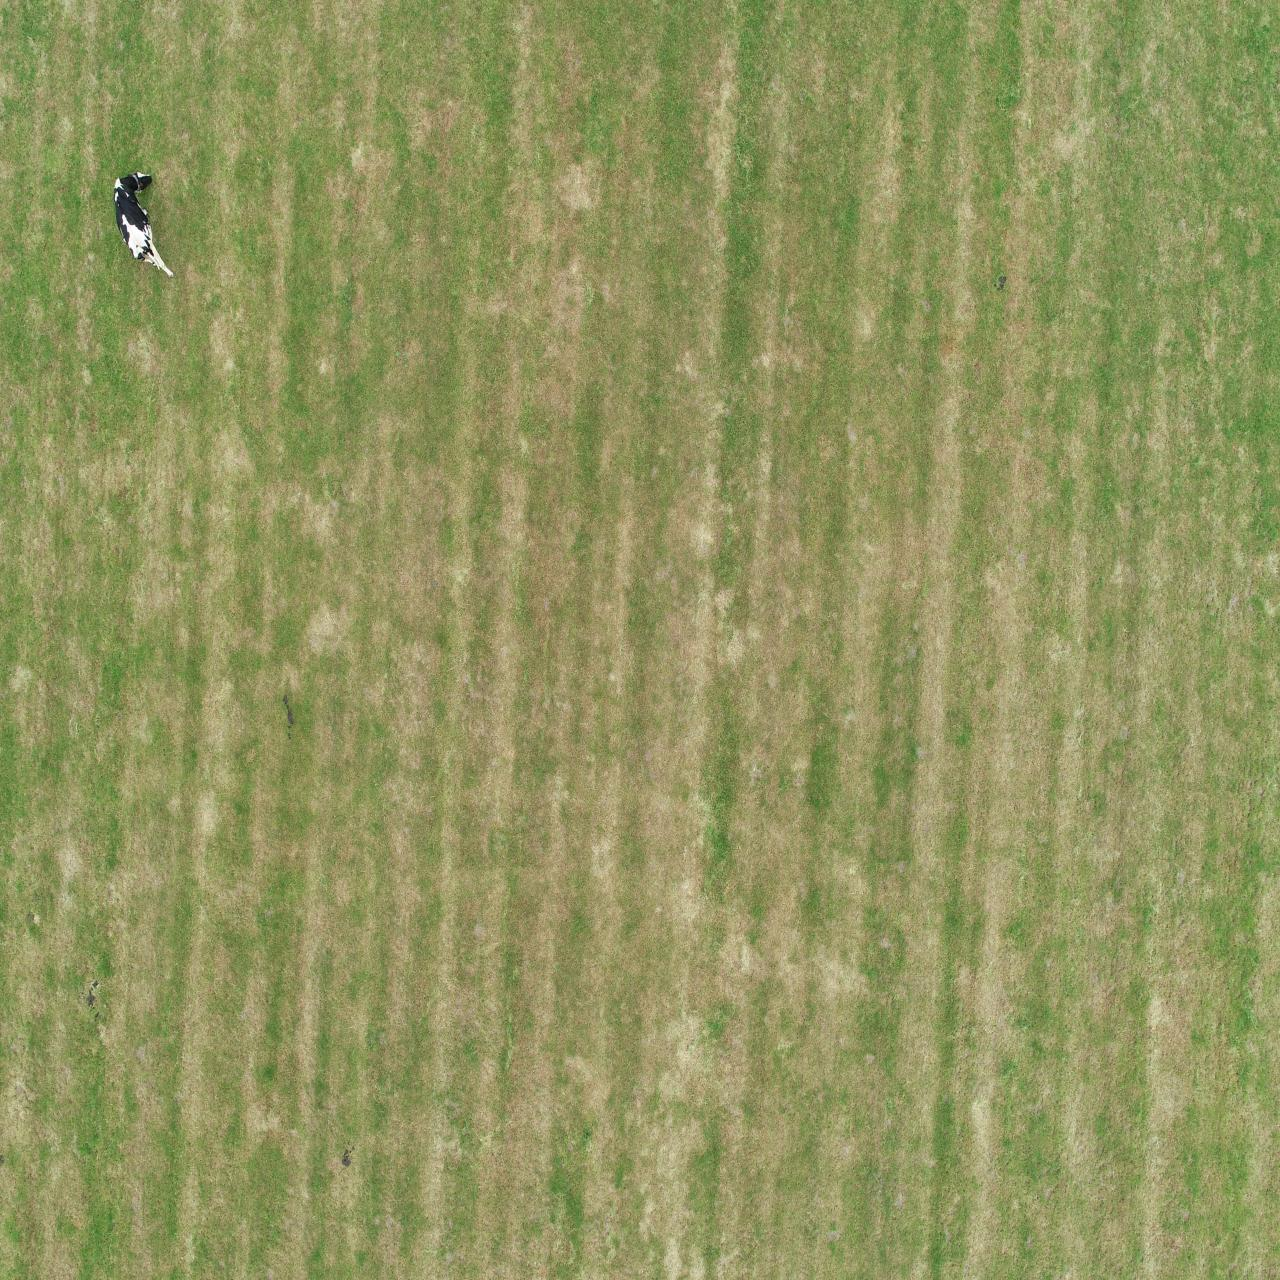cow: (1117, 458, 1157, 522), (1010, 716, 1032, 795), (602, 1173, 621, 1251), (803, 654, 821, 727)
